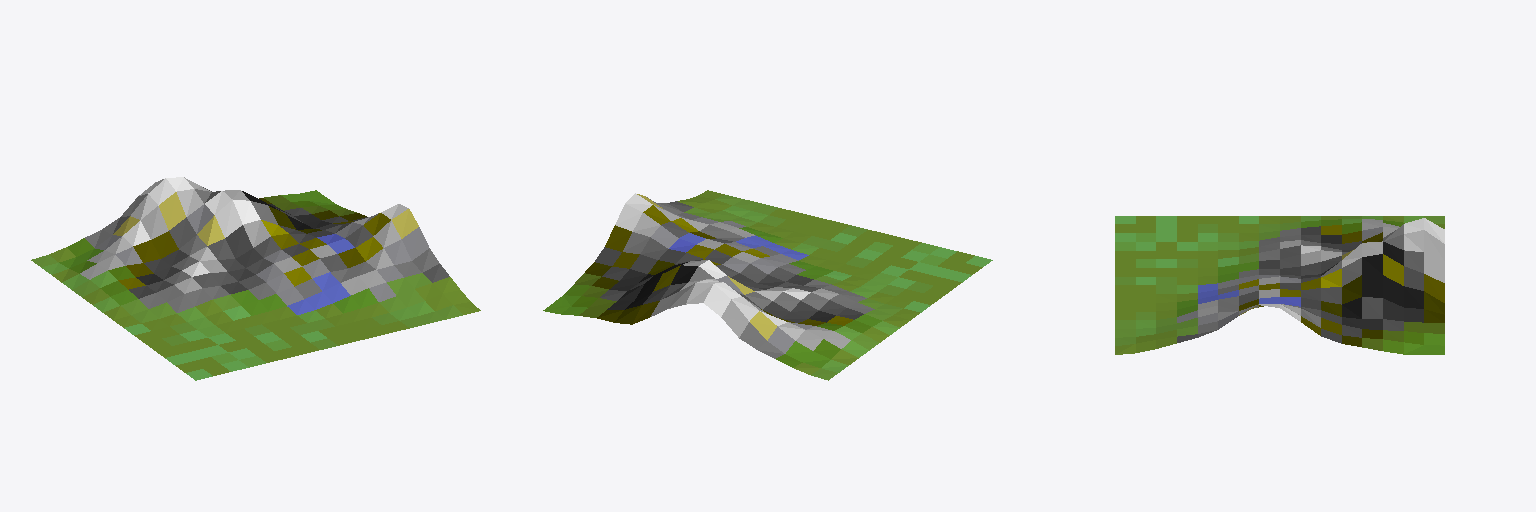
3 views of the same model, side by side, from view 1: azimuth 30°, elevation 25°; view 2: azimuth 150°, elevation 25°; view 3: azimuth 270°, elevation 25° (orthographic).
Visible parts, largest first — view 1: mountains3; view 2: mountains3; view 3: mountains3.
Boxes of the visible parts, x1,y1,x2,y2 form: mountains3: [31, 177, 480, 380]; mountains3: [543, 190, 992, 380]; mountains3: [1115, 216, 1444, 354].
Size of the model in its own units: 1 by 0.1973 by 1.
Materials: 1 (1 with a texture image).